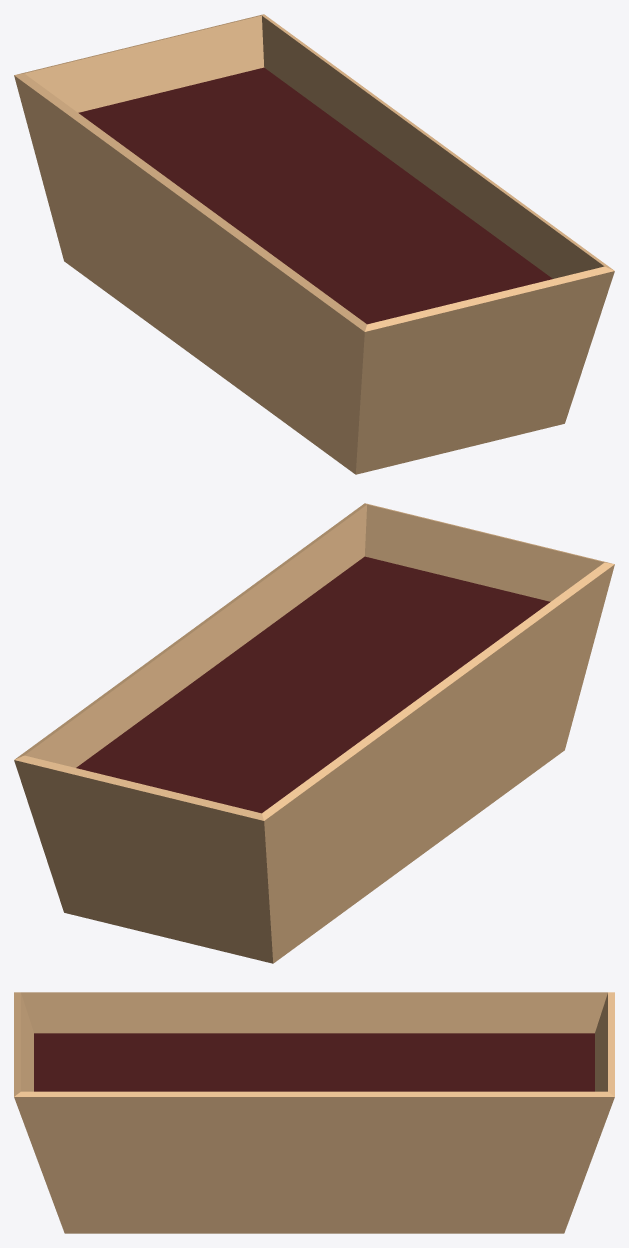
File: Pot.fbx
3 views of the same model, one above another, from view 1: azimuth 30°, elevation 25°; view 2: azimuth 150°, elevation 25°; view 3: azimuth 270°, elevation 25° (orthographic). The views are drawn at different scales.
Parts seen in each view (by area): view 1: Cube, Plane; view 2: Cube, Plane; view 3: Cube, Plane.
Boxes of the visible parts, x1=… form: Cube: x1=14, y1=14, x2=614, y2=474; Plane: x1=78, y1=67, x2=552, y2=324; Cube: x1=14, y1=503, x2=614, y2=963; Plane: x1=76, y1=556, x2=550, y2=813; Cube: x1=14, y1=992, x2=614, y2=1233; Plane: x1=34, y1=1033, x2=594, y2=1091.
Bounding box in the file's own units: 252 × 166 × 613.
